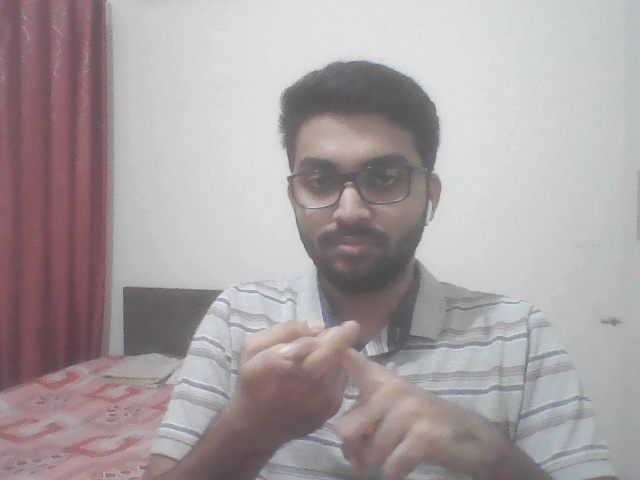friend: (209, 296, 532, 480)
